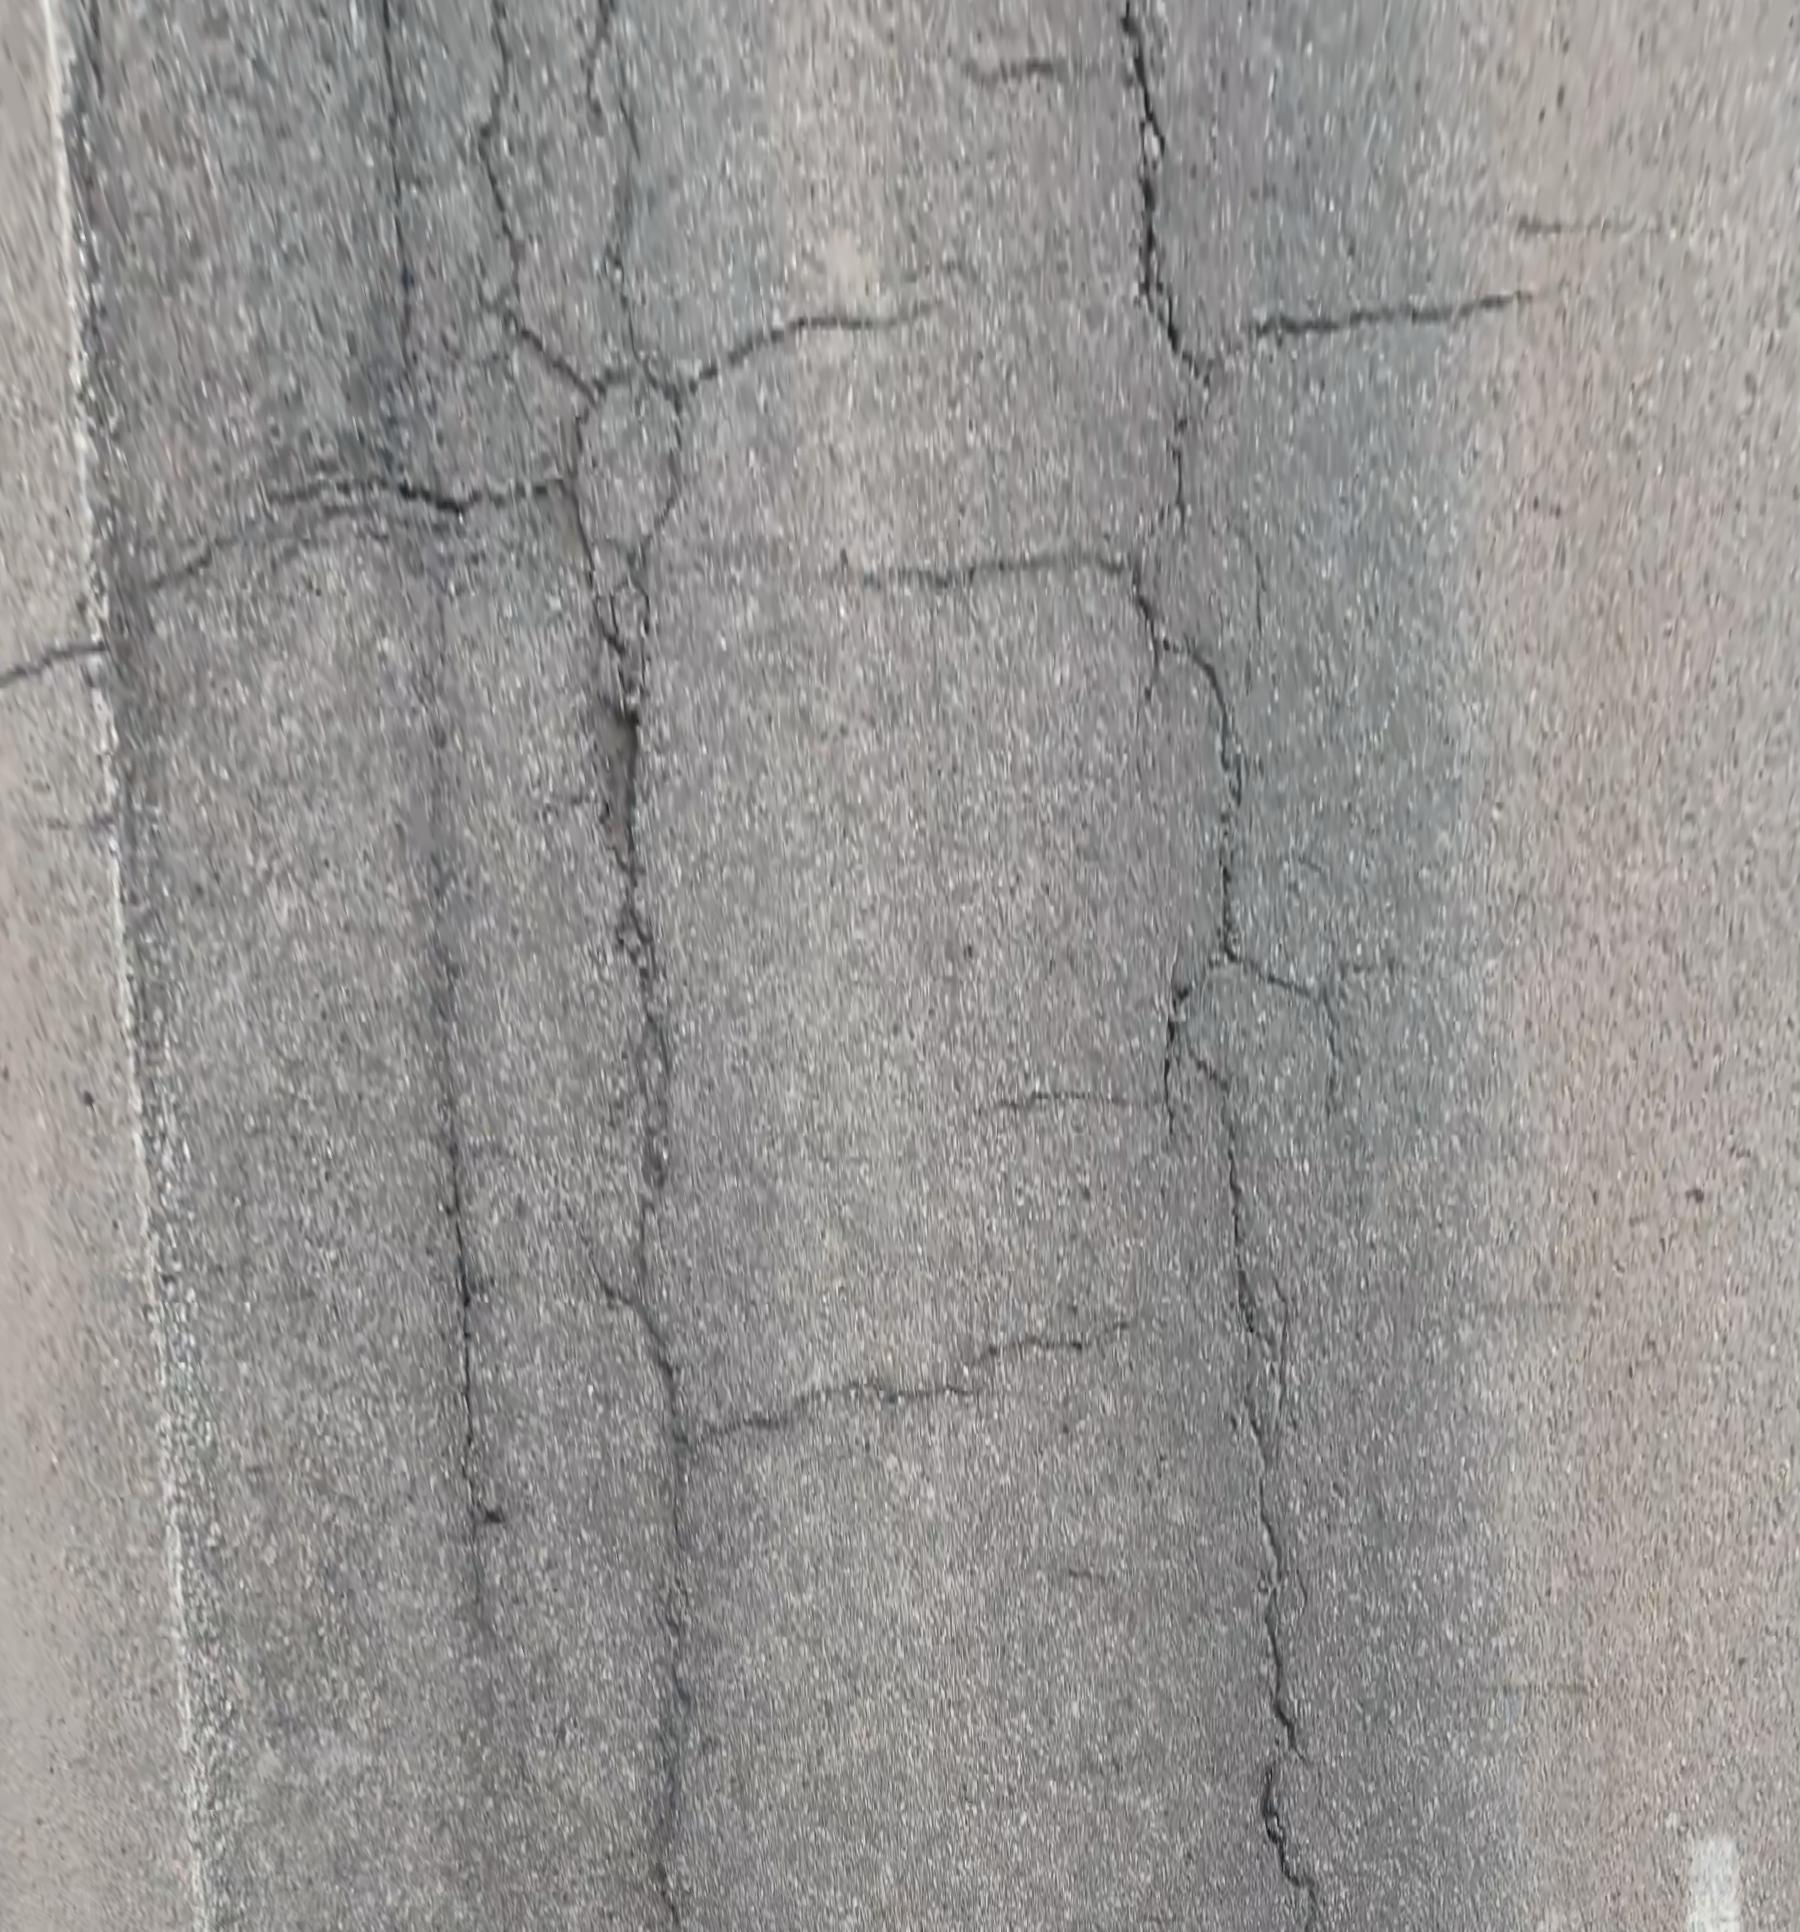pothole: (585, 689, 639, 878)
